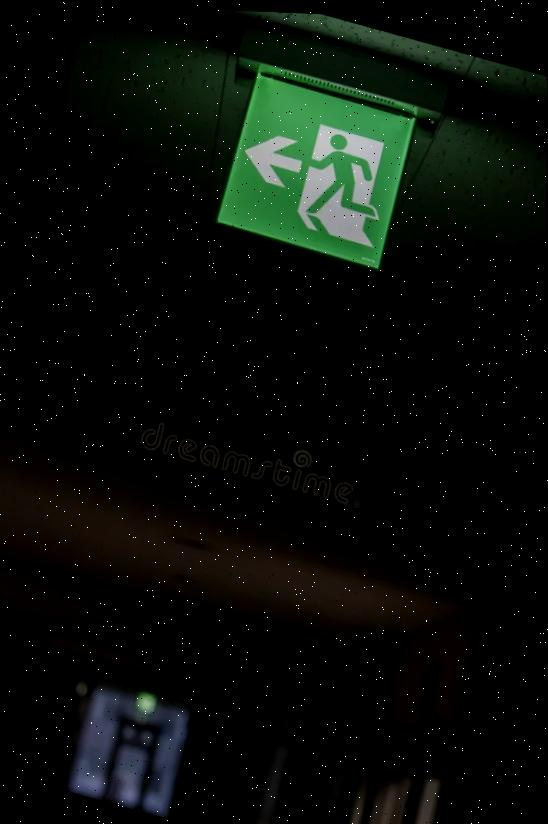emergency_exit: (214, 60, 419, 272)
